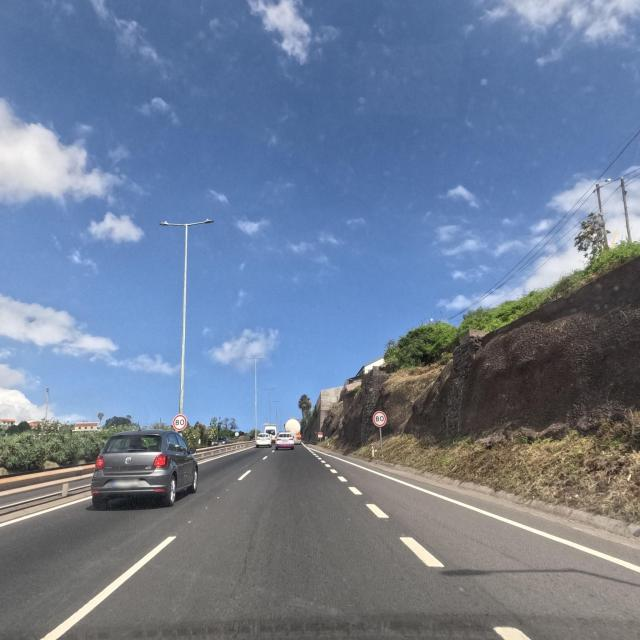car: (90, 428, 198, 510), (275, 431, 295, 451), (255, 433, 271, 448)
